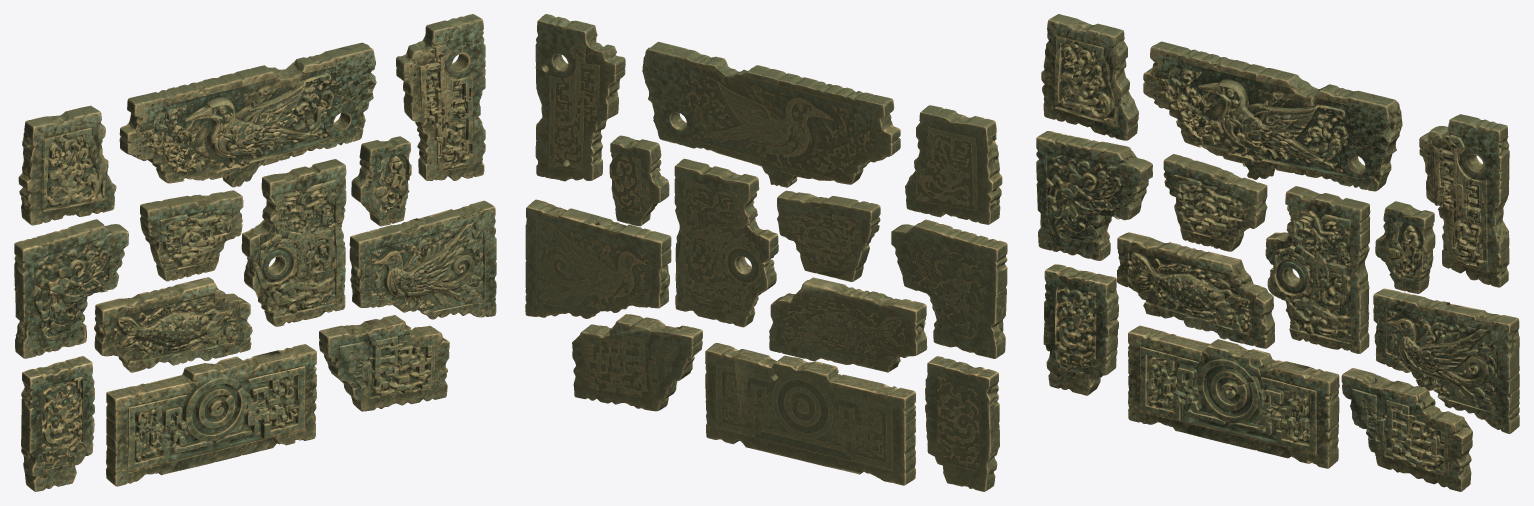
File: 13-bronze-fragment.glb
3 views of the same model, side by side, from view 1: azimuth 30°, elevation 25°; view 2: azimuth 150°, elevation 25°; view 3: azimuth 330°, elevation 25° (orthographic).
Parts seen in each view (by area): view 1: mesh_node; view 2: mesh_node; view 3: mesh_node.
Part boxes in pixels (x1,y1,x2,y2): mesh_node: (14, 14, 496, 491); mesh_node: (525, 14, 1007, 491); mesh_node: (1036, 14, 1519, 491).
Size of the model in its own units: 1.9 by 1.46 by 0.1023.
Materials: 1 (1 with a texture image).
